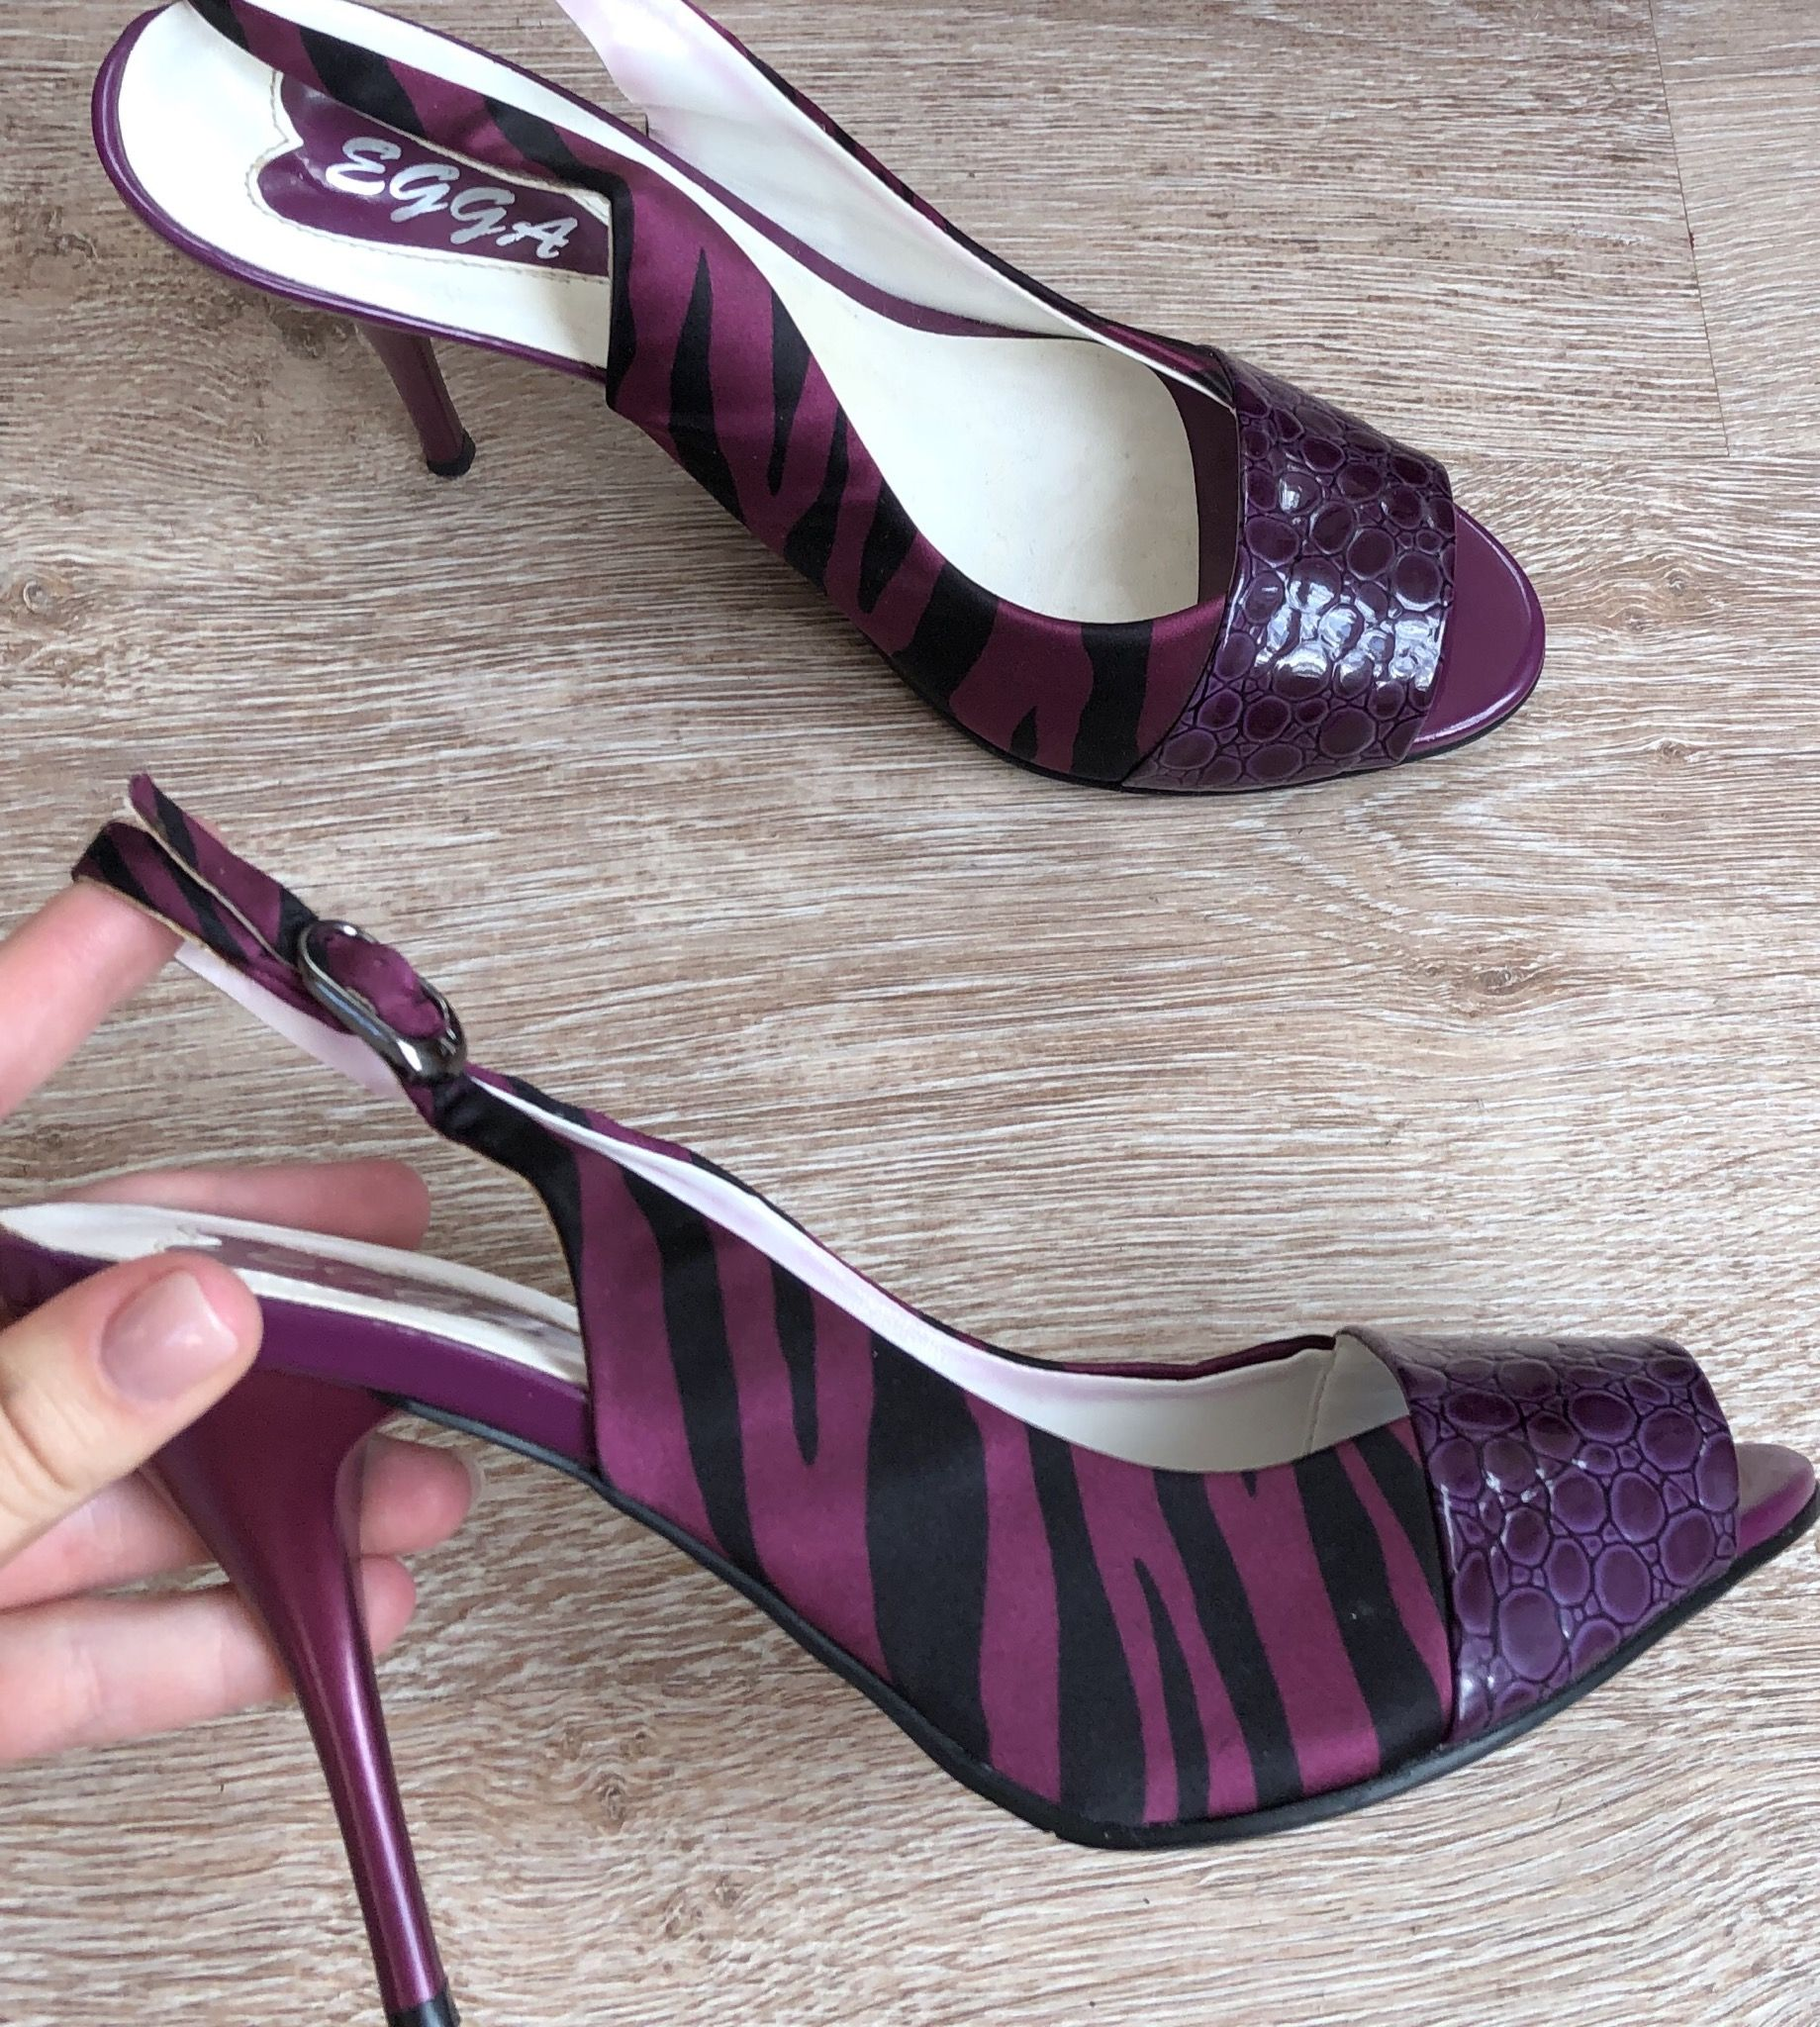clothes: (21, 782, 1801, 2018), (72, 2, 1449, 804)
